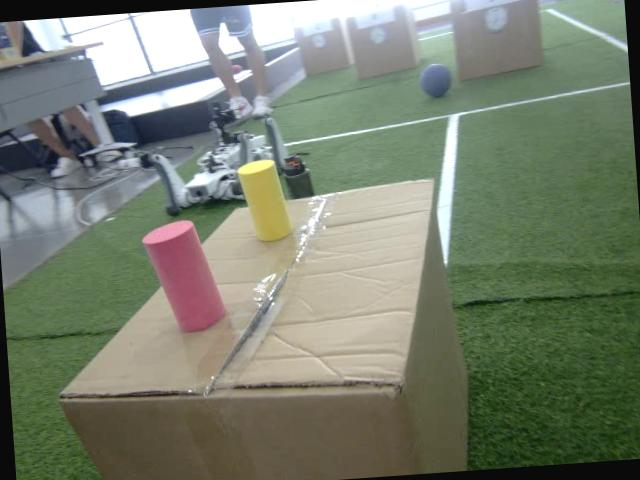red_cylinder: (140, 218, 226, 335)
yellow_cylinder: (236, 159, 292, 242)
